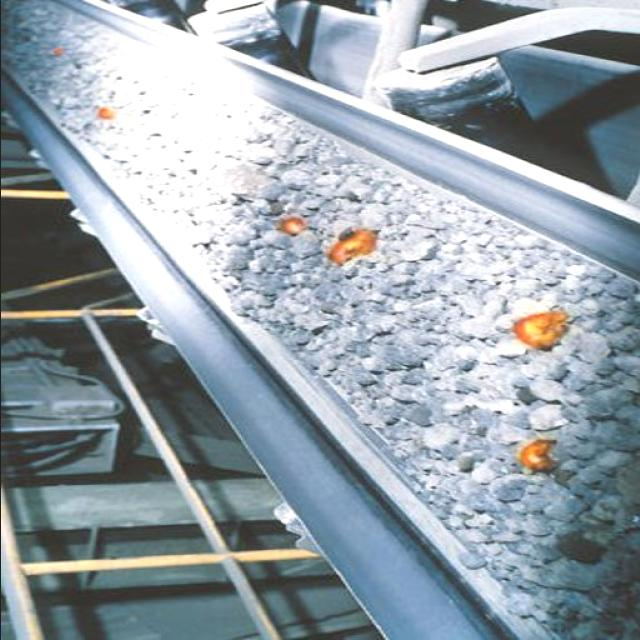conveyor: (0, 0, 640, 640)
